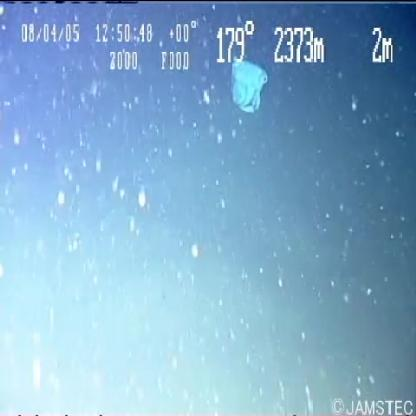Rác: (225, 53, 276, 120)
